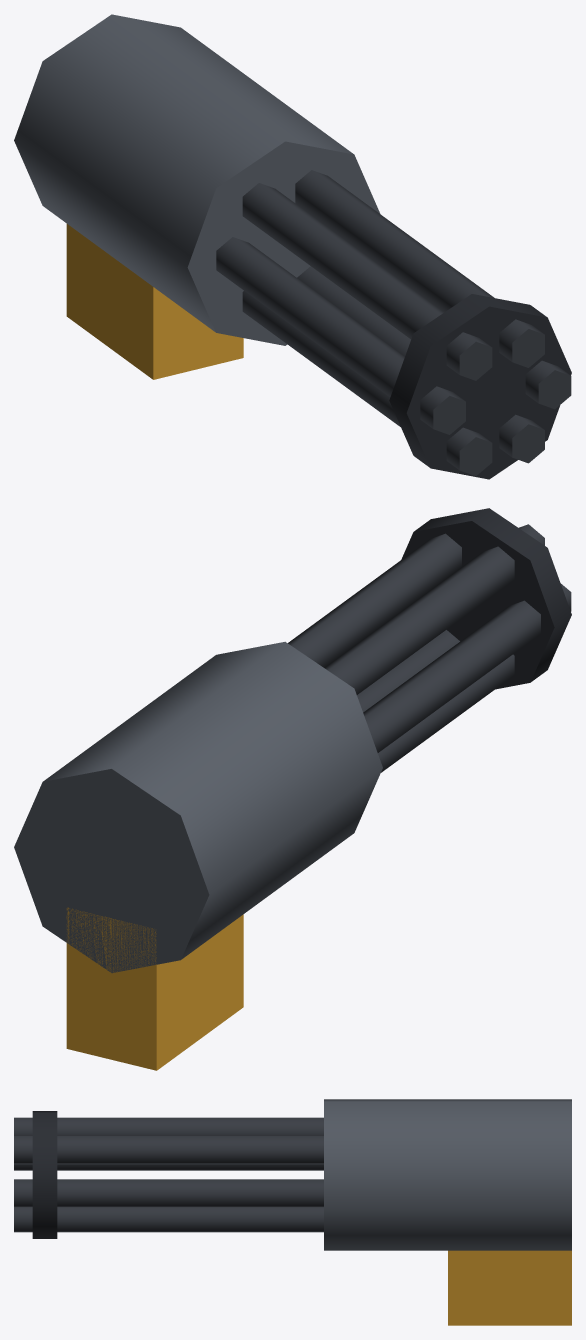
File: wpn_gatling.glb
The picture shows the model from 3 angles, top to bottom: view 1: azimuth 30°, elevation 25°; view 2: azimuth 150°, elevation 25°; view 3: azimuth 270°, elevation 25°; orthographic projection. The views are drawn at different scales.
Parts seen in each view (by area): view 1: weapon, barrels; view 2: weapon, barrels; view 3: weapon, barrels.
Boxes of the visible parts, x1,y1,x2,y2 form: weapon: (14, 14, 380, 379); barrels: (216, 170, 571, 479); weapon: (14, 641, 382, 1070); barrels: (288, 508, 571, 772); weapon: (324, 1099, 571, 1325); barrels: (14, 1111, 323, 1238).
Size of the model in its own units: 0.26 by 0.37 by 0.9.
